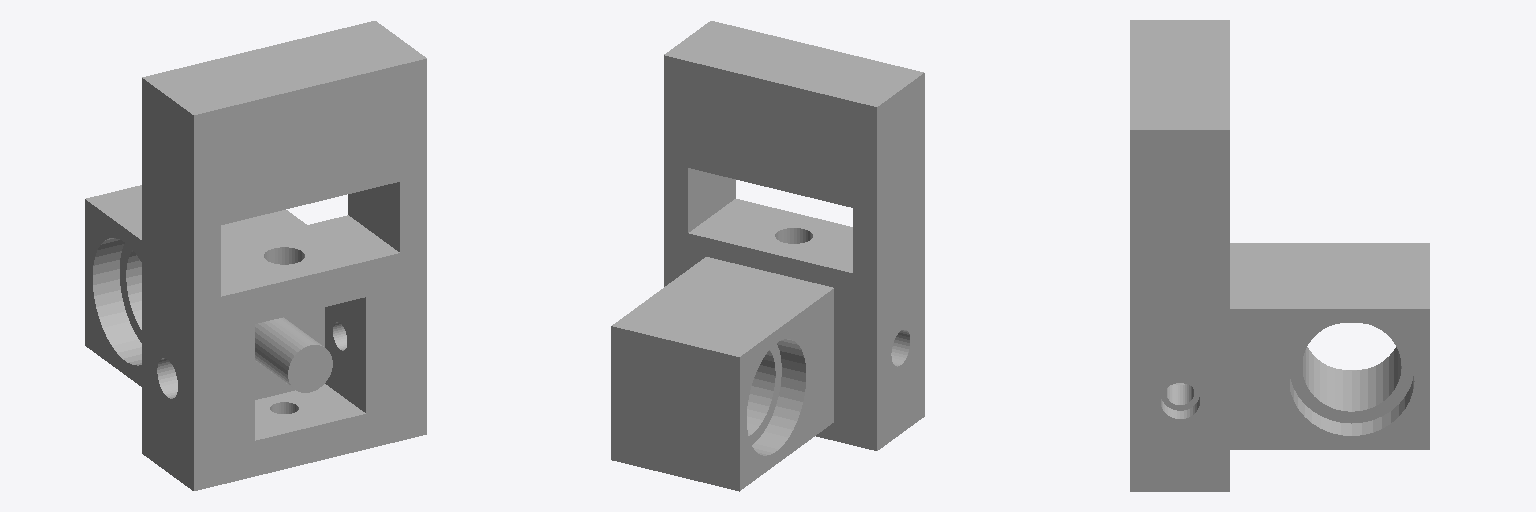
robot.urdf — root:
<?xml version='1.0' encoding='utf-8'?>
<robot name="root">
  <link name="link_001">
    <visual>
      <origin xyz="0 0 0" rpy="0 0 0" />
      <geometry>
        <mesh filename="37fb3fe4c6876dfb9c5915800ec5e9f69c7c55e7ee9b07e10f23b9162a04f088_scale_001.stl" scale="1.0000E+00 1.0000E+00 1.0000E+00" />
      </geometry>
      <material name="">
        <color rgba="7.50E-01 7.50E-01 7.50E-01 1" />
      </material>
    </visual>
    <collision>
      <origin xyz="0 0 0" rpy="0 0 0" />
      <geometry>
        <mesh filename="37fb3fe4c6876dfb9c5915800ec5e9f69c7c55e7ee9b07e10f23b9162a04f088_scale_001.stl" scale="1.0000E+00 1.0000E+00 1.0000E+00" />
      </geometry>
    </collision>
  </link>
</robot>

--- What the picture shows (computed from the rendered views, not written in the file) ---
3 views of the same robot in one strip: view 1: azimuth 30°, elevation 25°; view 2: azimuth 150°, elevation 25°; view 3: azimuth 270°, elevation 25° (orthographic).
Robot: root — 1 links, 0 joints (none); root link link_001; default pose: all joints at 0.
Visible links, largest first — view 1: link_001; view 2: link_001; view 3: link_001.
Boxes of the visible links, bbox=[...] form: link_001: bbox=[85, 21, 426, 490]; link_001: bbox=[611, 21, 924, 491]; link_001: bbox=[1130, 20, 1429, 491].
Bounding box of the posed robot: 0.078 × 0.09 × 0.12 m (x, y, z).
Meshes: 1 distinct files referenced, 1 mesh visuals loaded (1 binary STL).
